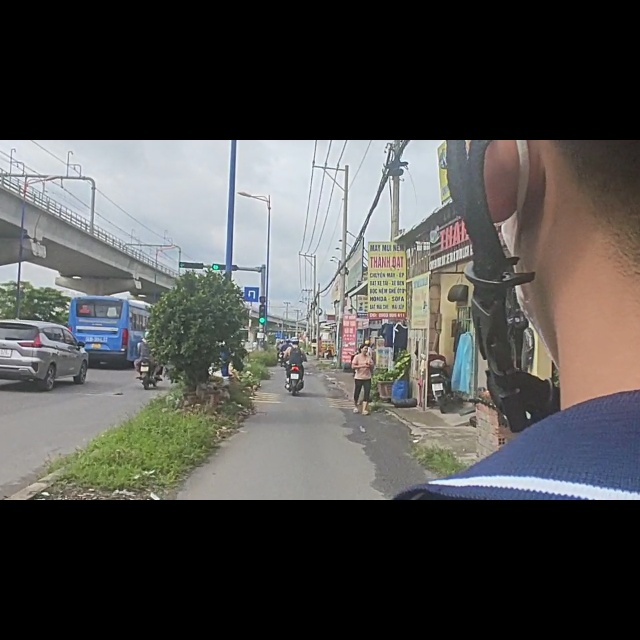bien_chi_dan: (242, 258, 261, 288)
